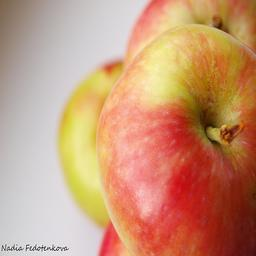apple: (96, 23, 256, 256)
